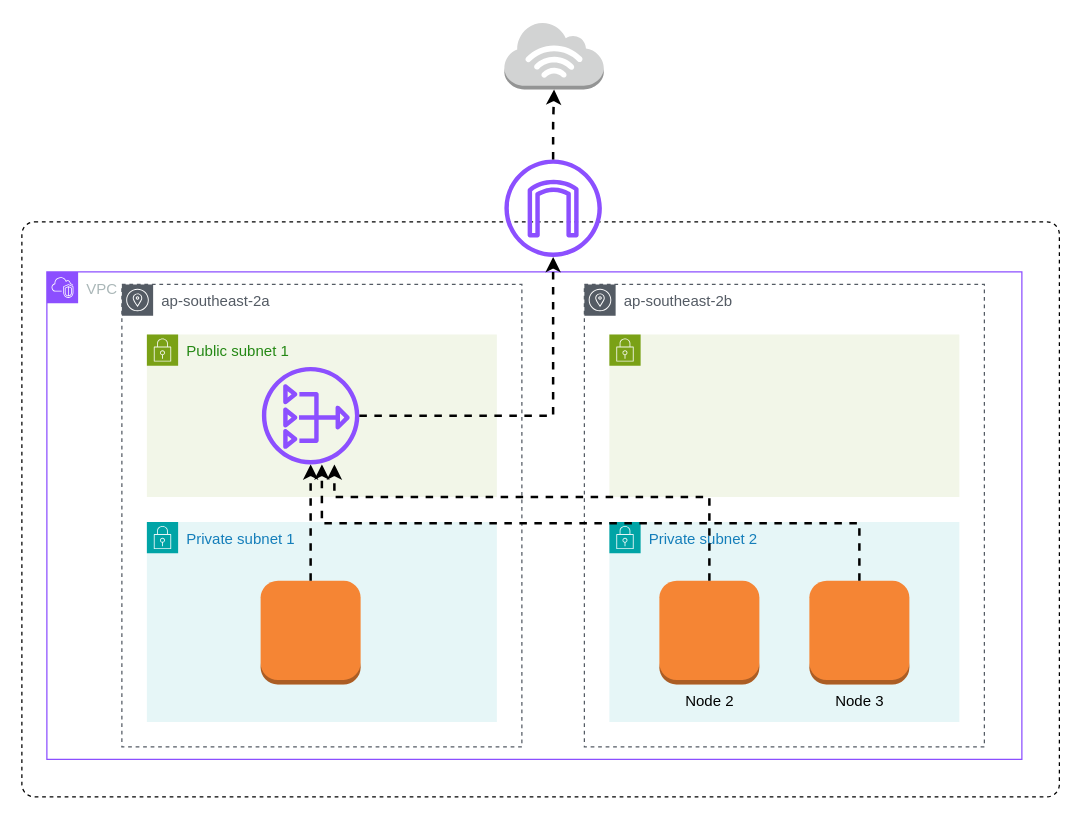
Image size: 1081x819. Some labels were removed from this diagram. The centre of each missing label's shape, as x and y in pixels:
Node 1: the point at 310,631
Public subnet 2: the point at 783,415
